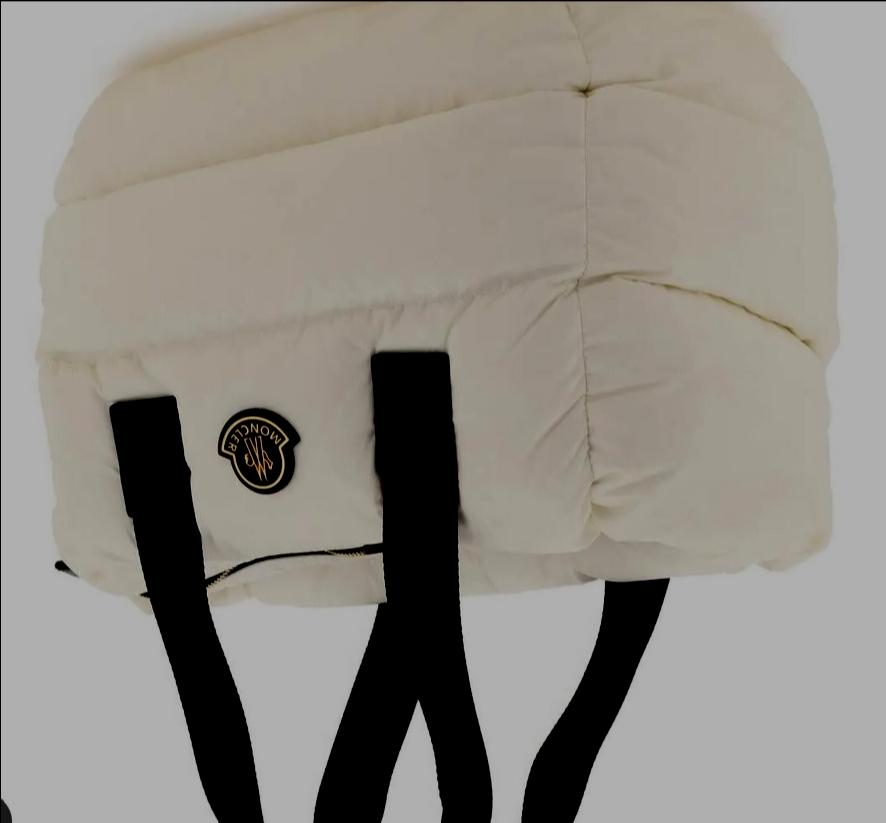MONCLER: (216, 408, 302, 494)
